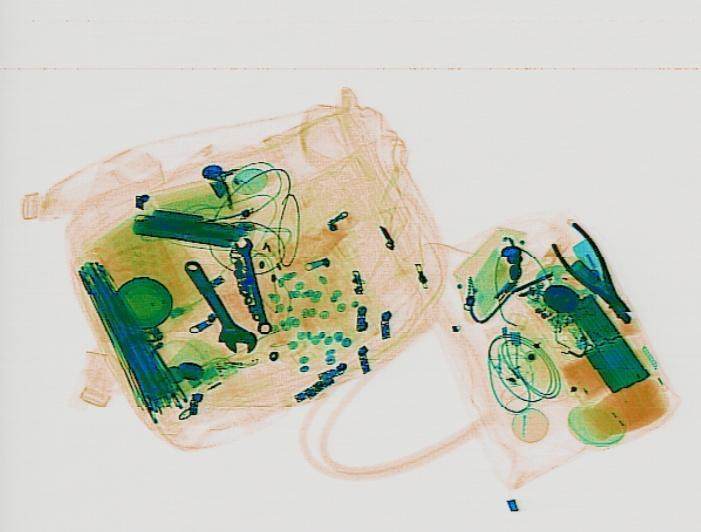Pliers: (537, 220, 655, 327)
Wrench: (173, 255, 264, 358), (231, 235, 274, 334)
